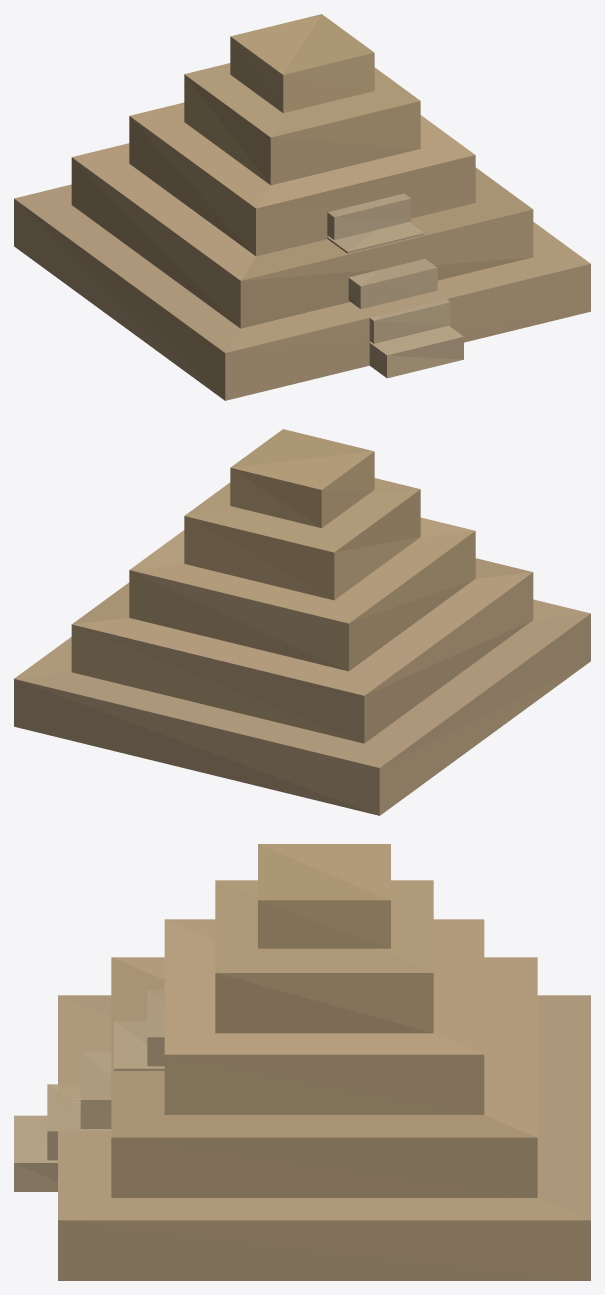
The model's file is stepped_desert_temple.glb.
3 views of the same model, one above another, from view 1: azimuth 30°, elevation 25°; view 2: azimuth 150°, elevation 25°; view 3: azimuth 270°, elevation 25° (orthographic). The views are drawn at different scales.
Parts seen in each view (by area): view 1: tier_0, tier_1, tier_2, tier_3, tier_4, front_step_0, front_step_2, front_step_4, front_step_1, front_step_3; view 2: tier_0, tier_1, tier_2, tier_3, tier_4; view 3: tier_0, tier_1, tier_2, tier_3, tier_4, front_step_0, front_step_2, front_step_1, front_step_3, front_step_4.
Part boxes in pixels (left/top/right/bottom): tier_0: left=14, top=184, right=590, bottom=400; tier_1: left=71, top=143, right=533, bottom=328; tier_2: left=129, top=102, right=475, bottom=256; tier_3: left=184, top=63, right=420, bottom=185; tier_4: left=230, top=14, right=374, bottom=113; front_step_0: left=369, top=325, right=463, bottom=378; front_step_2: left=348, top=258, right=437, bottom=309; front_step_4: left=327, top=193, right=410, bottom=239; front_step_1: left=350, top=298, right=450, bottom=343; front_step_3: left=327, top=222, right=424, bottom=253; tier_0: left=14, top=599, right=590, bottom=815; tier_1: left=71, top=558, right=533, bottom=743; tier_2: left=129, top=517, right=475, bottom=671; tier_3: left=184, top=478, right=420, bottom=600; tier_4: left=230, top=429, right=374, bottom=528; tier_0: left=58, top=995, right=590, bottom=1280; tier_1: left=111, top=957, right=537, bottom=1197; tier_2: left=164, top=919, right=484, bottom=1114; tier_3: left=215, top=880, right=433, bottom=1033; tier_4: left=258, top=844, right=390, bottom=948; front_step_0: left=14, top=1115, right=57, bottom=1191; front_step_2: left=80, top=1052, right=111, bottom=1128; front_step_1: left=47, top=1084, right=111, bottom=1160; front_step_3: left=114, top=1021, right=164, bottom=1070; front_step_4: left=147, top=990, right=164, bottom=1066.
Size of the model in its own units: 2 by 1.23 by 2.16.
